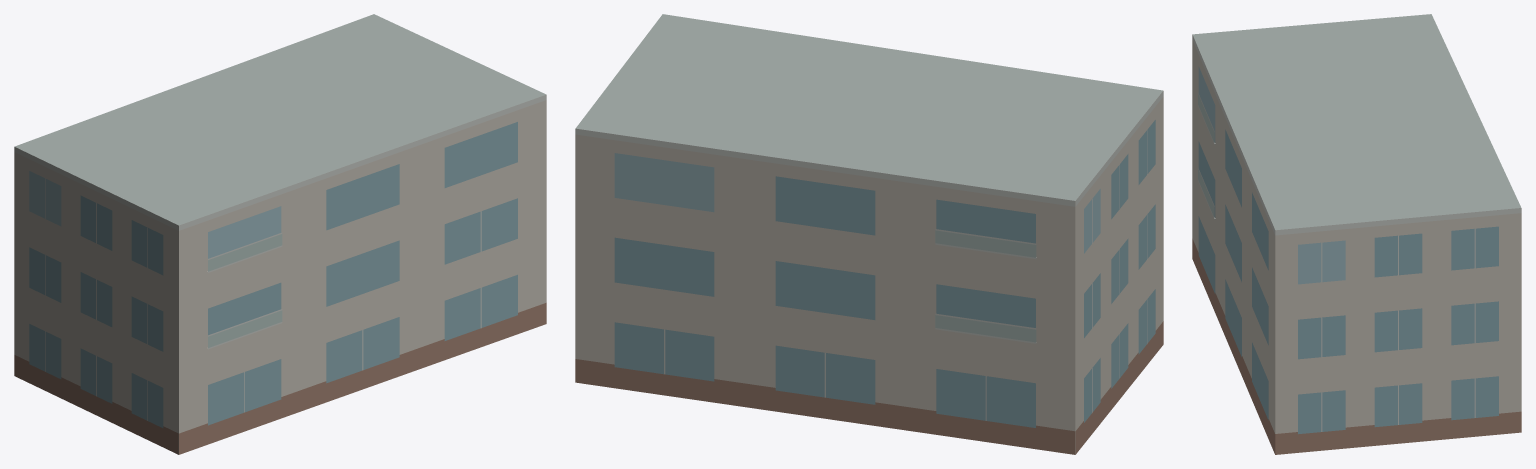
Rendered from survey-upis-32616511.glb.
3 renders of one model, left to right at view 1: azimuth 30°, elevation 25°; view 2: azimuth 150°, elevation 25°; view 3: azimuth 270°, elevation 25°, orthographic. The views are drawn at different scales.
Parts seen in each view (by area): view 1: survey-upis-32616511.tmp; view 2: survey-upis-32616511.tmp; view 3: survey-upis-32616511.tmp.
Boxes of the visible parts, left/top/right/bottom form: survey-upis-32616511.tmp: left=14, top=14, right=546, bottom=454; survey-upis-32616511.tmp: left=575, top=14, right=1163, bottom=454; survey-upis-32616511.tmp: left=1192, top=14, right=1521, bottom=454.
Bounding box in the file's own units: 21.69 × 10.5 × 13.95.
